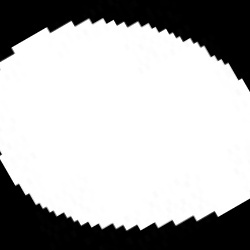spot: (0, 19, 249, 230)
